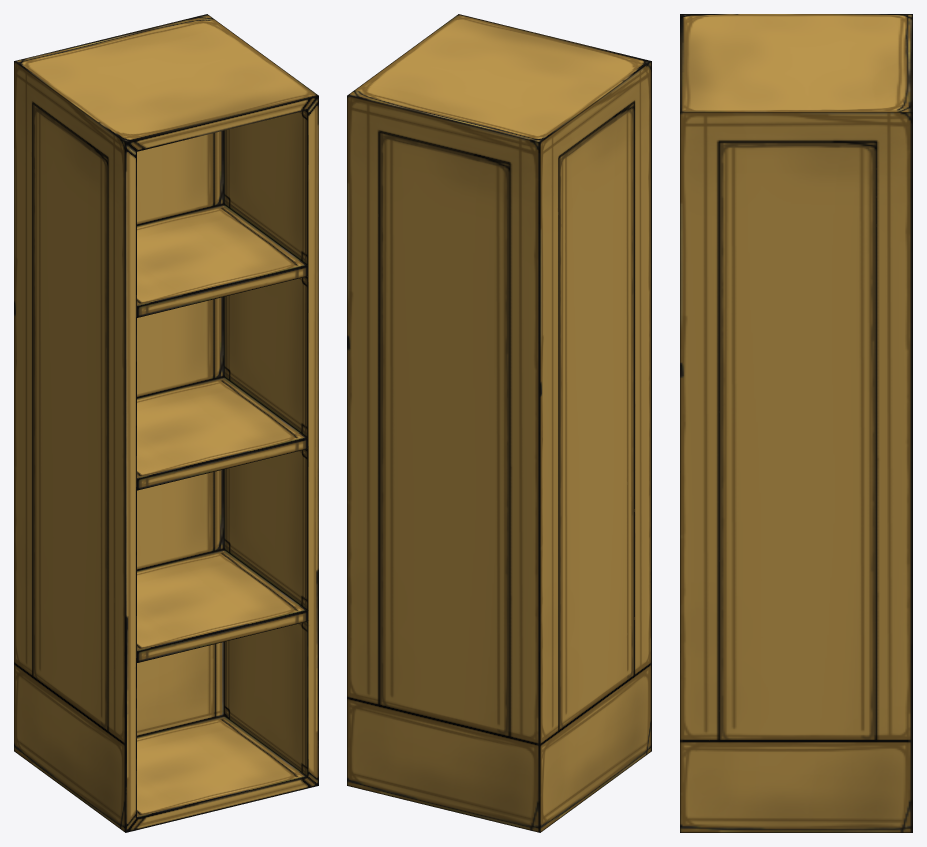
Rendered from locker.fbx.
3 renders of one model, left to right at view 1: azimuth 30°, elevation 25°; view 2: azimuth 150°, elevation 25°; view 3: azimuth 270°, elevation 25°, orthographic. The views are drawn at different scales.
Parts seen in each view (by area): view 1: Plane; view 2: Plane; view 3: Plane.
Boxes of the visible parts, box(x1,y1,x2,y2) form: Plane: box(14, 14, 318, 832); Plane: box(347, 14, 651, 832); Plane: box(680, 14, 912, 832).
Size of the model in its own units: 86.97 by 297 by 86.97.
